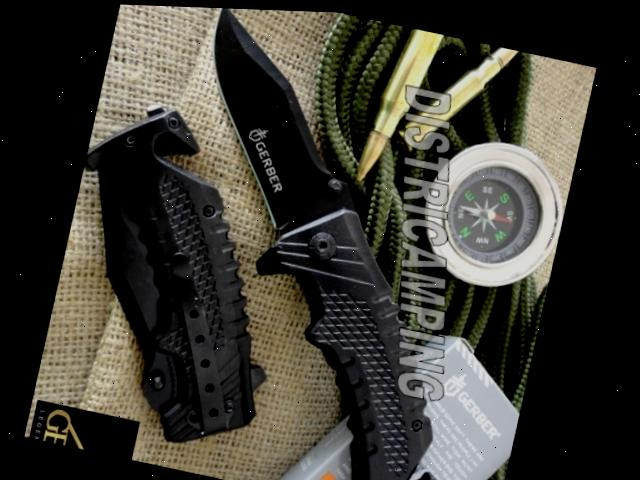pocket-knife: (116, 4, 539, 480), (119, 4, 537, 480)
